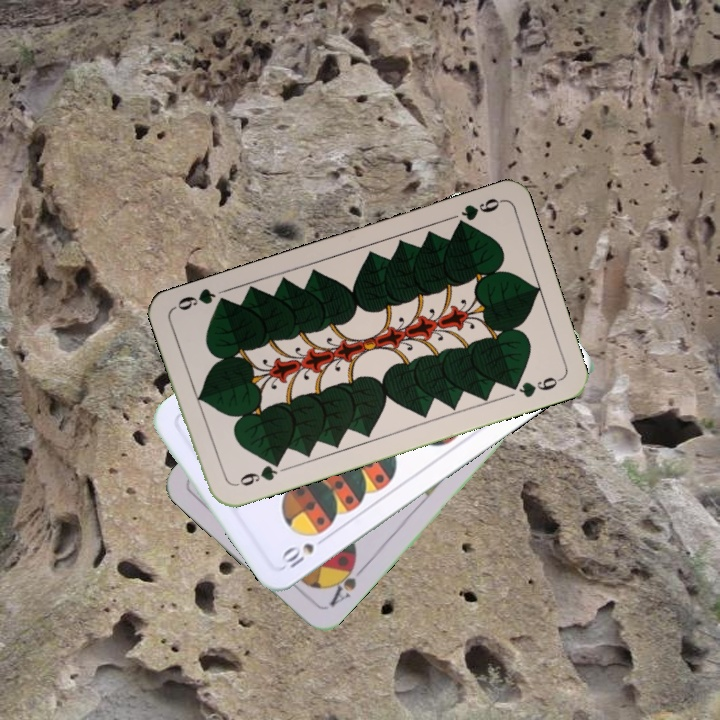G9: (451, 194, 504, 232), (229, 456, 284, 490)
S10: (277, 539, 317, 571)
SA: (325, 556, 368, 609)
